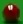brown: (0, 0, 23, 24)
